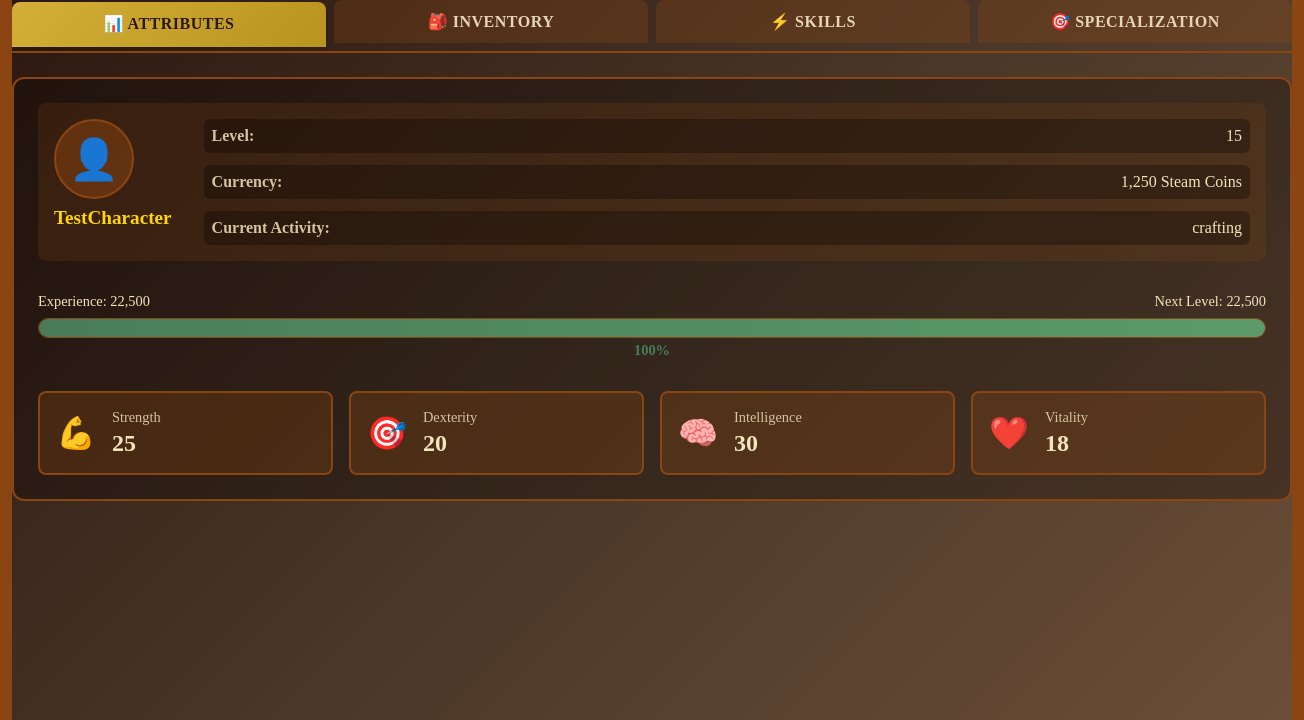
Scenario: CharacterPanel › Specialization Tab › displays active bonuses
The width and height of the screenshot is (1304, 720).
Click the button "🎯 Specialization".
click(1135, 22)  # box top-left (978, 0), bottom-right (1292, 43)
(page scrolled)
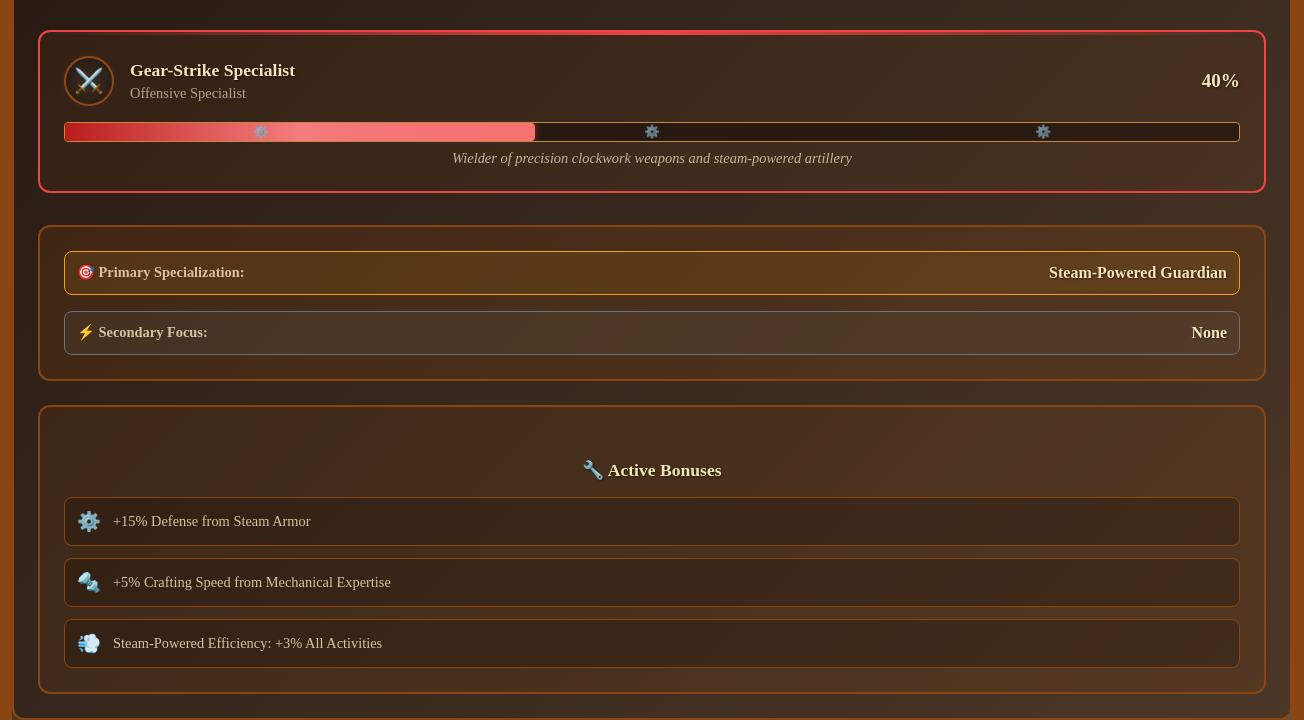
Expected: the heading "🔧 Active Bonuses" is shown, top-left (582, 460), bottom-right (722, 480)
Expected: the text "+15% Defense from Steam Armor" is shown, top-left (113, 513), bottom-right (310, 529)
Expected: the text "+5% Crafting Speed from Mechanical Expertise" is shown, top-left (113, 574), bottom-right (391, 590)
